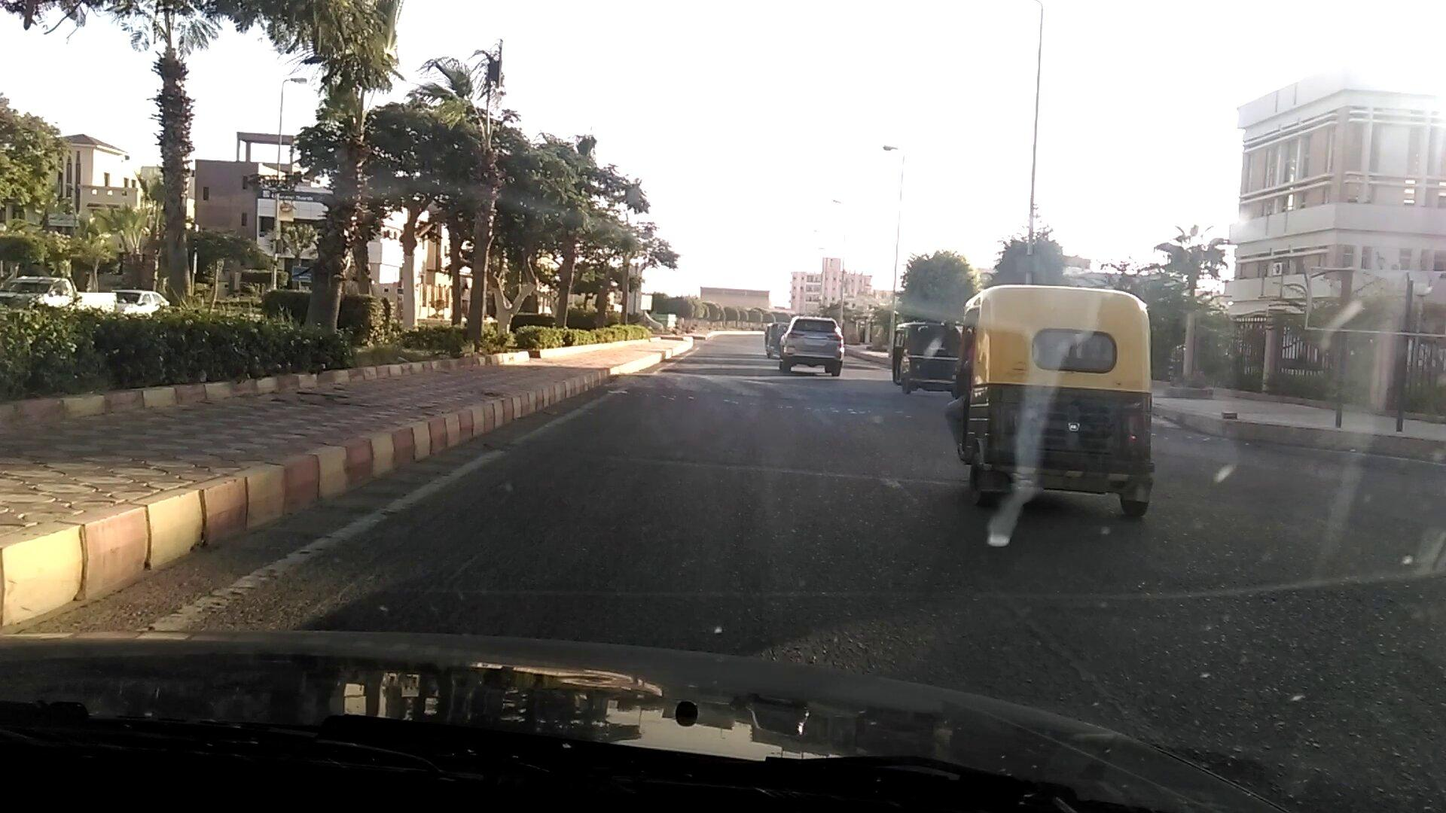Bump: (610, 373, 924, 408)
